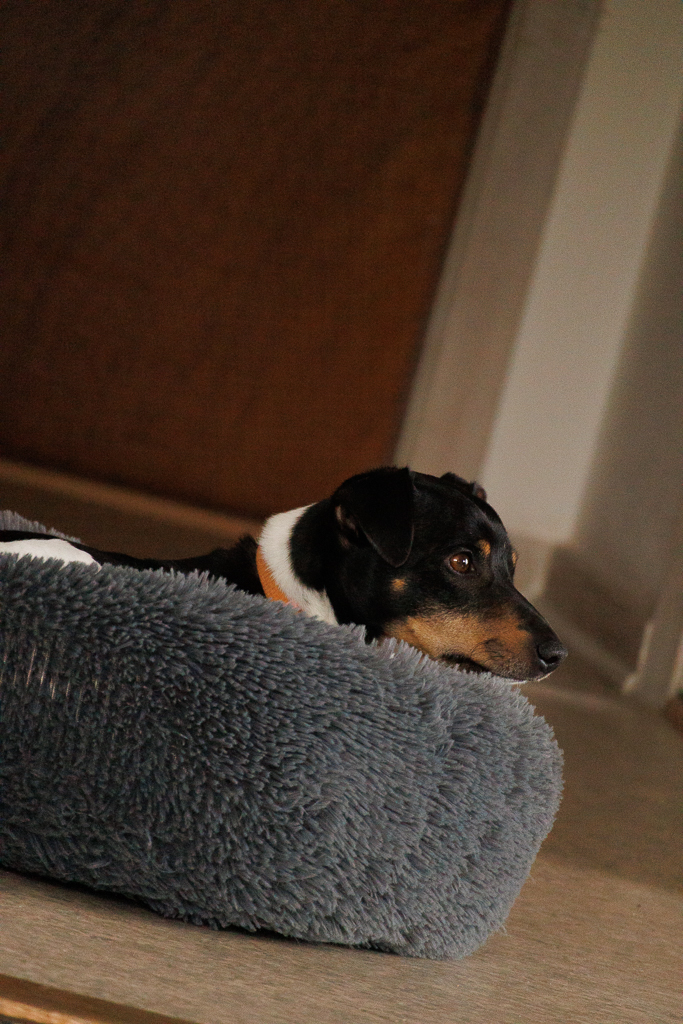Dog: (0, 455, 579, 691)
